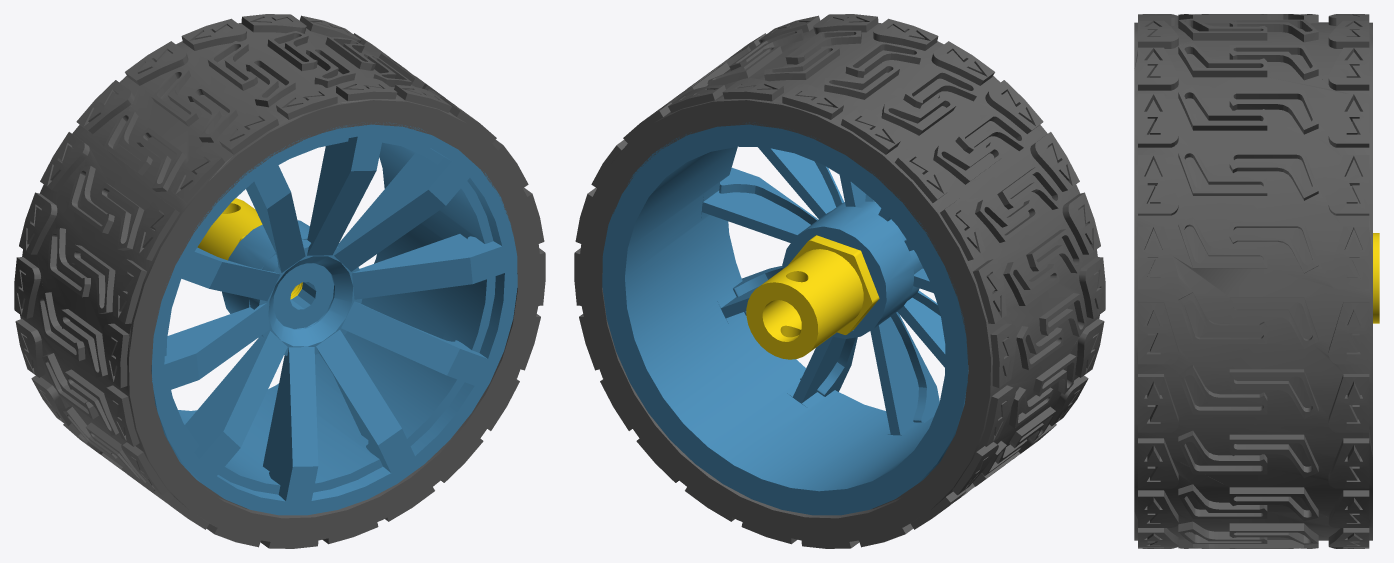
File: wheel_left_link.gltf
The picture shows the model from 3 angles, left to right: view 1: azimuth 30°, elevation 25°; view 2: azimuth 150°, elevation 25°; view 3: azimuth 270°, elevation 25°; orthographic projection. The views are drawn at different scales.
Visible parts, largest first — view 1: Part 3, Part 2, Part 1; view 2: Part 3, Part 2, Part 1; view 3: Part 3, Part 1.
Part boxes in pixels (bbox=[...]): Part 3: bbox=[14, 14, 545, 548]; Part 2: bbox=[151, 122, 517, 515]; Part 1: bbox=[197, 198, 302, 299]; Part 3: bbox=[574, 14, 1105, 548]; Part 2: bbox=[602, 122, 968, 515]; Part 1: bbox=[746, 235, 879, 359]; Part 3: bbox=[1134, 14, 1372, 548]; Part 1: bbox=[1373, 233, 1379, 323].
Bounding box in the file's own units: 0.065 × 0.065 × 0.0298.
